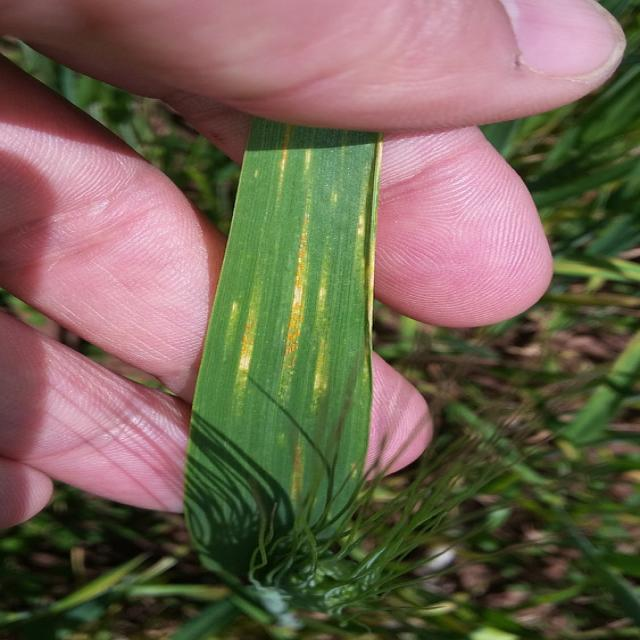wheat-septoria: (208, 118, 352, 418)
